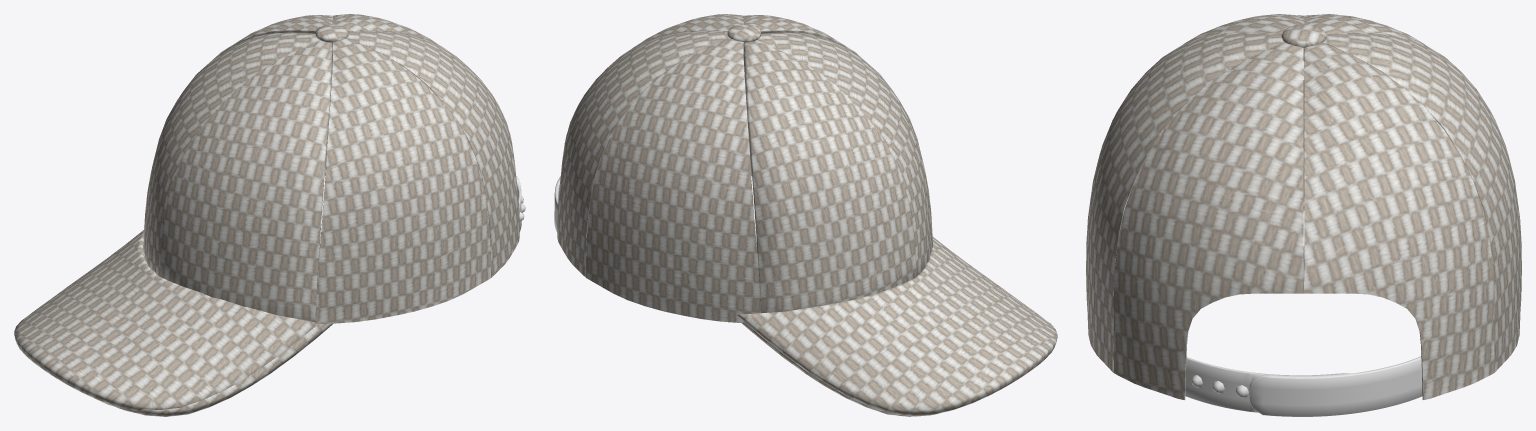
Rendered from 04_new_york.glb.
3 renders of one model, left to right at view 1: azimuth 30°, elevation 25°; view 2: azimuth 150°, elevation 25°; view 3: azimuth 270°, elevation 25°, orthographic. The views are drawn at different scales.
Parts seen in each view (by area): view 1: corpo, frente, aba_cima, aba_baixo, defaultMaterial.001; view 2: corpo, frente, aba_cima, aba_baixo, defaultMaterial.001; view 3: corpo, defaultMaterial, frente, defaultMaterial.001.
Part boxes in pixels (x1,y1,x2,y2): corpo: (210, 14, 519, 323); frente: (143, 32, 332, 322); aba_cima: (14, 230, 317, 411); aba_baixo: (90, 267, 333, 416); defaultMaterial.001: (315, 24, 349, 42); corpo: (557, 14, 864, 322); frente: (744, 32, 932, 313); aba_cima: (737, 237, 1057, 416); aba_baixo: (741, 272, 931, 416); defaultMaterial.001: (727, 24, 761, 42); corpo: (1086, 32, 1521, 399); defaultMaterial: (1185, 356, 1422, 416); frente: (1183, 14, 1424, 201); defaultMaterial.001: (1281, 24, 1326, 48).
Bounding box in the file's own units: 3.32 × 1.96 × 2.03.
Materials: 2 (1 with a texture image).
